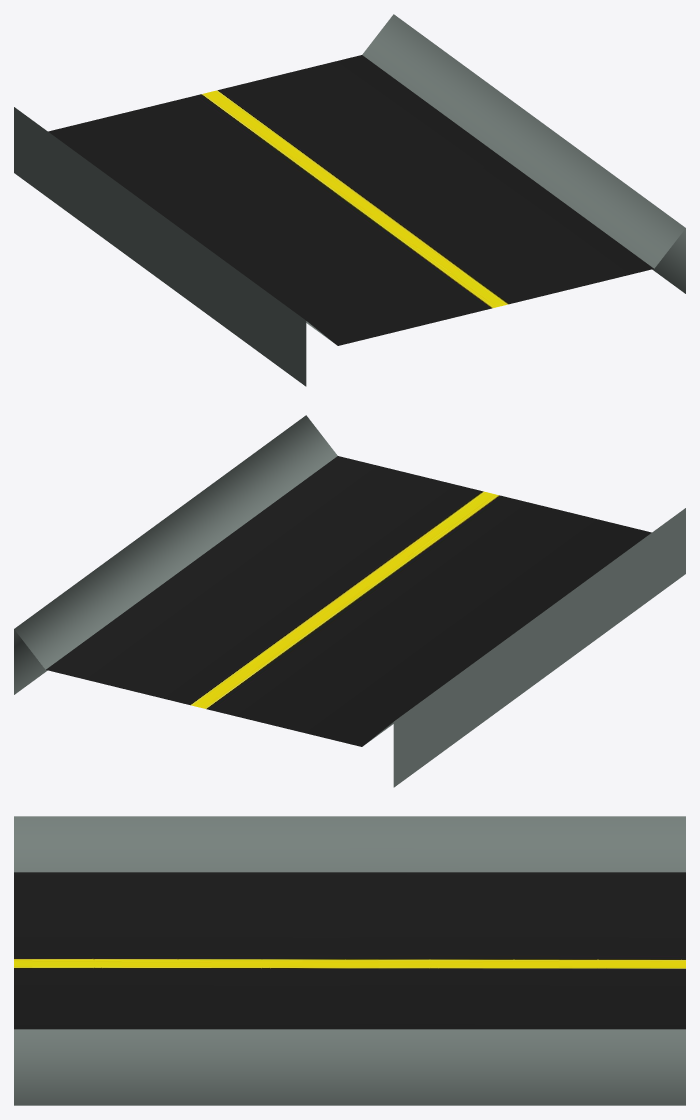
Rendered from lane_straight_16.fbx.
3 renders of one model, top to bottom at view 1: azimuth 30°, elevation 25°; view 2: azimuth 150°, elevation 25°; view 3: azimuth 270°, elevation 25°, orthographic. The views are drawn at different scales.
Visible parts, largest first — view 1: lane_straight_16_01; view 2: lane_straight_16_01; view 3: lane_straight_16_01.
Part boxes in pixels (x1,y1,x2,y2): lane_straight_16_01: (14, 14, 685, 386); lane_straight_16_01: (14, 415, 685, 787); lane_straight_16_01: (14, 816, 685, 1105).
Size of the model in its own units: 24 by 4 by 32.
